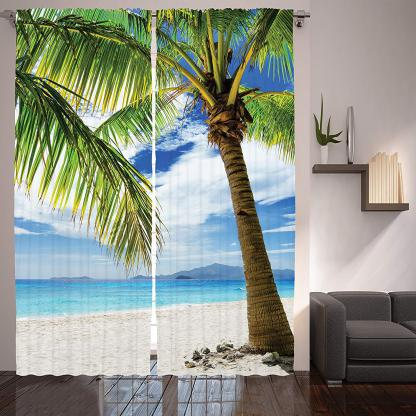buku: (368, 153, 406, 202)
kursi: (313, 112, 337, 163)
sova: (307, 287, 416, 390)
